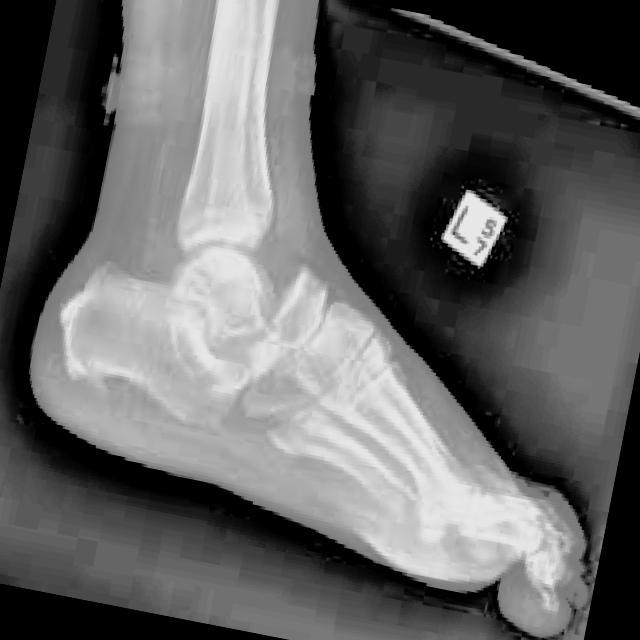Fracture Dislocation: (520, 543, 570, 610)
